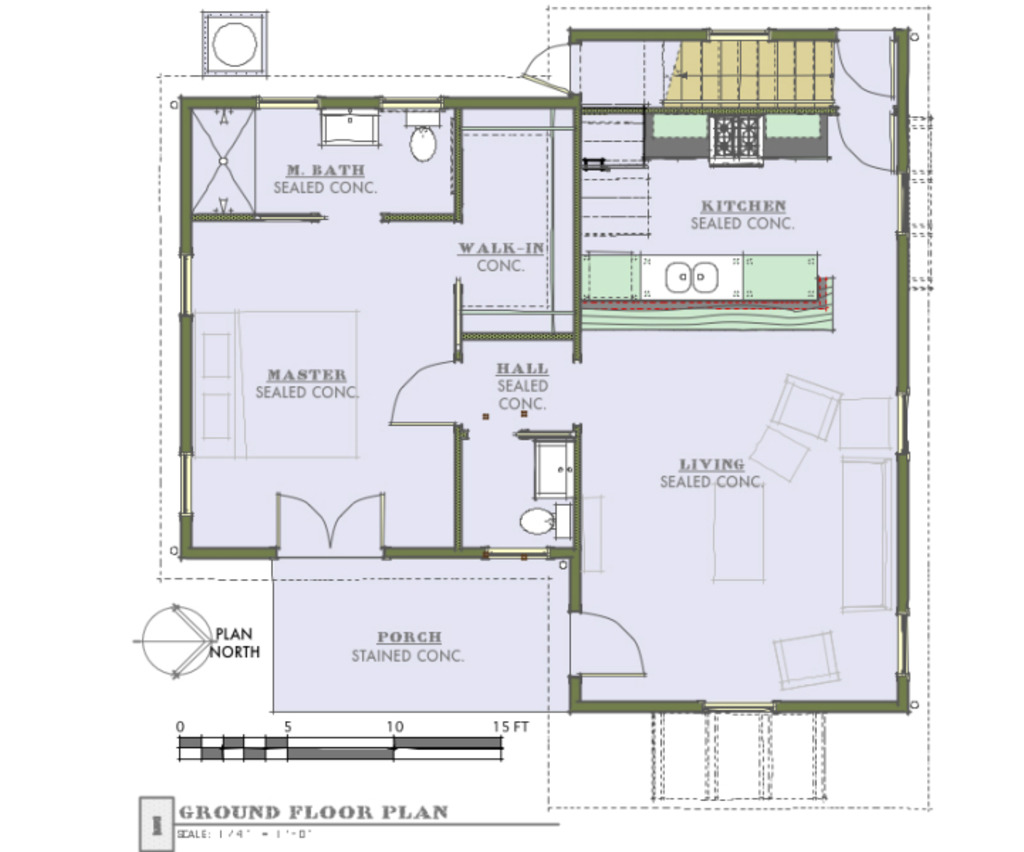bed: (192, 314, 380, 460)
door: (258, 493, 397, 558), (379, 357, 464, 441), (567, 605, 657, 677), (828, 28, 902, 99), (833, 100, 896, 177), (524, 35, 585, 101)
large_sink: (502, 492, 572, 551), (397, 104, 448, 175)
large_sofa: (841, 456, 893, 619)
sink: (315, 109, 388, 152), (528, 439, 580, 496)
small_sofa: (766, 369, 849, 444), (771, 626, 844, 695)
stairs: (584, 31, 831, 114)
twin_sink: (641, 248, 742, 305)
window: (172, 249, 198, 313), (705, 699, 776, 721), (179, 458, 196, 517)
